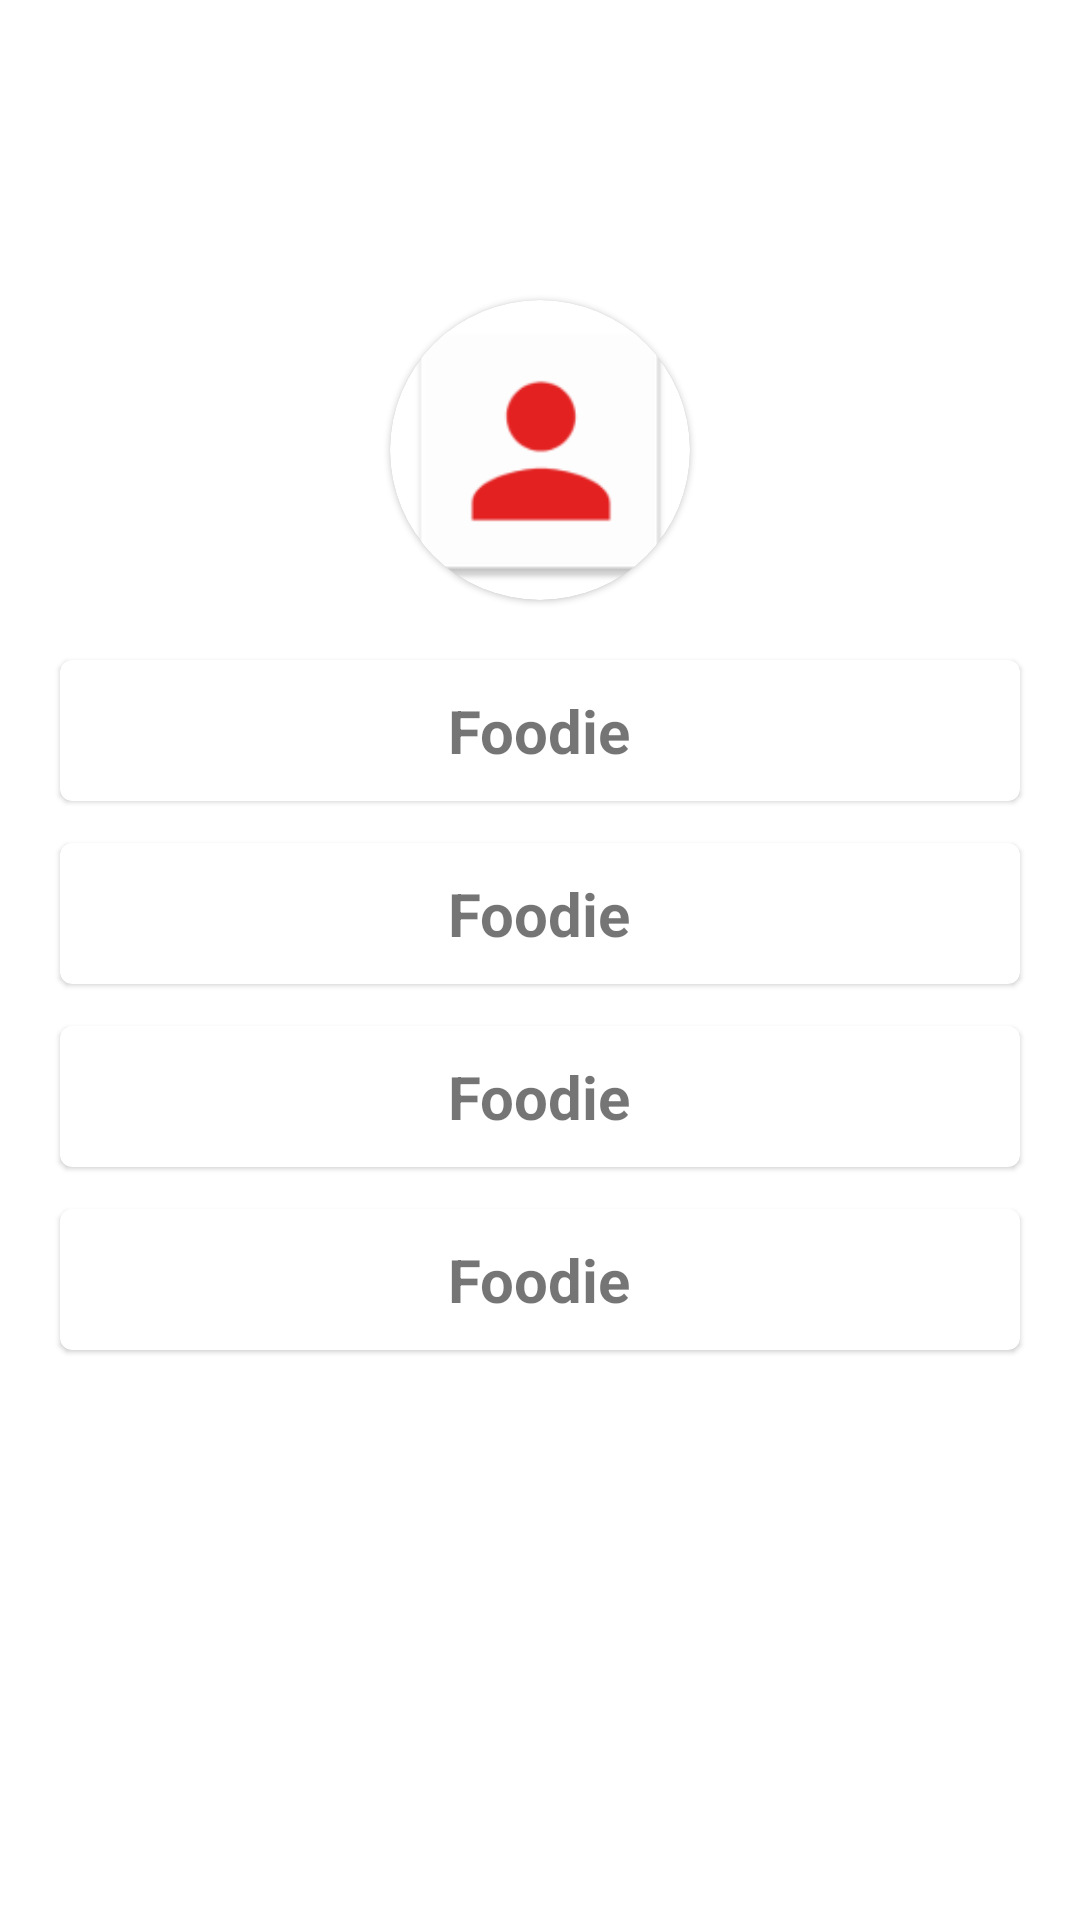

Where icons sit on this 1080px x 1920px app screen, as {"x1": x1, "y1": y1, "x2": x2, "y2": y2}:
Profile Icon: {"x1": 390, "y1": 358, "x2": 690, "y2": 600}
